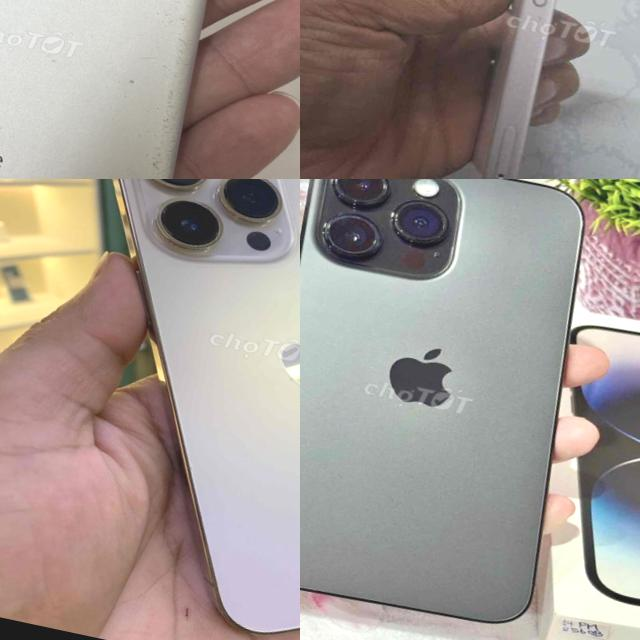gen_12_13: (6, 179, 300, 640), (418, 0, 640, 179)
gen_14: (300, 179, 633, 640)
gen_6: (0, 0, 204, 179)
